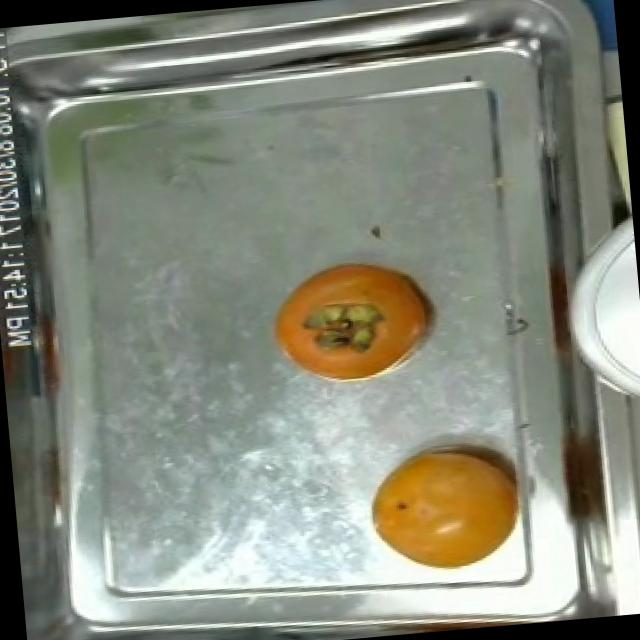Fruit: (354, 431, 533, 583), (261, 248, 448, 390)
